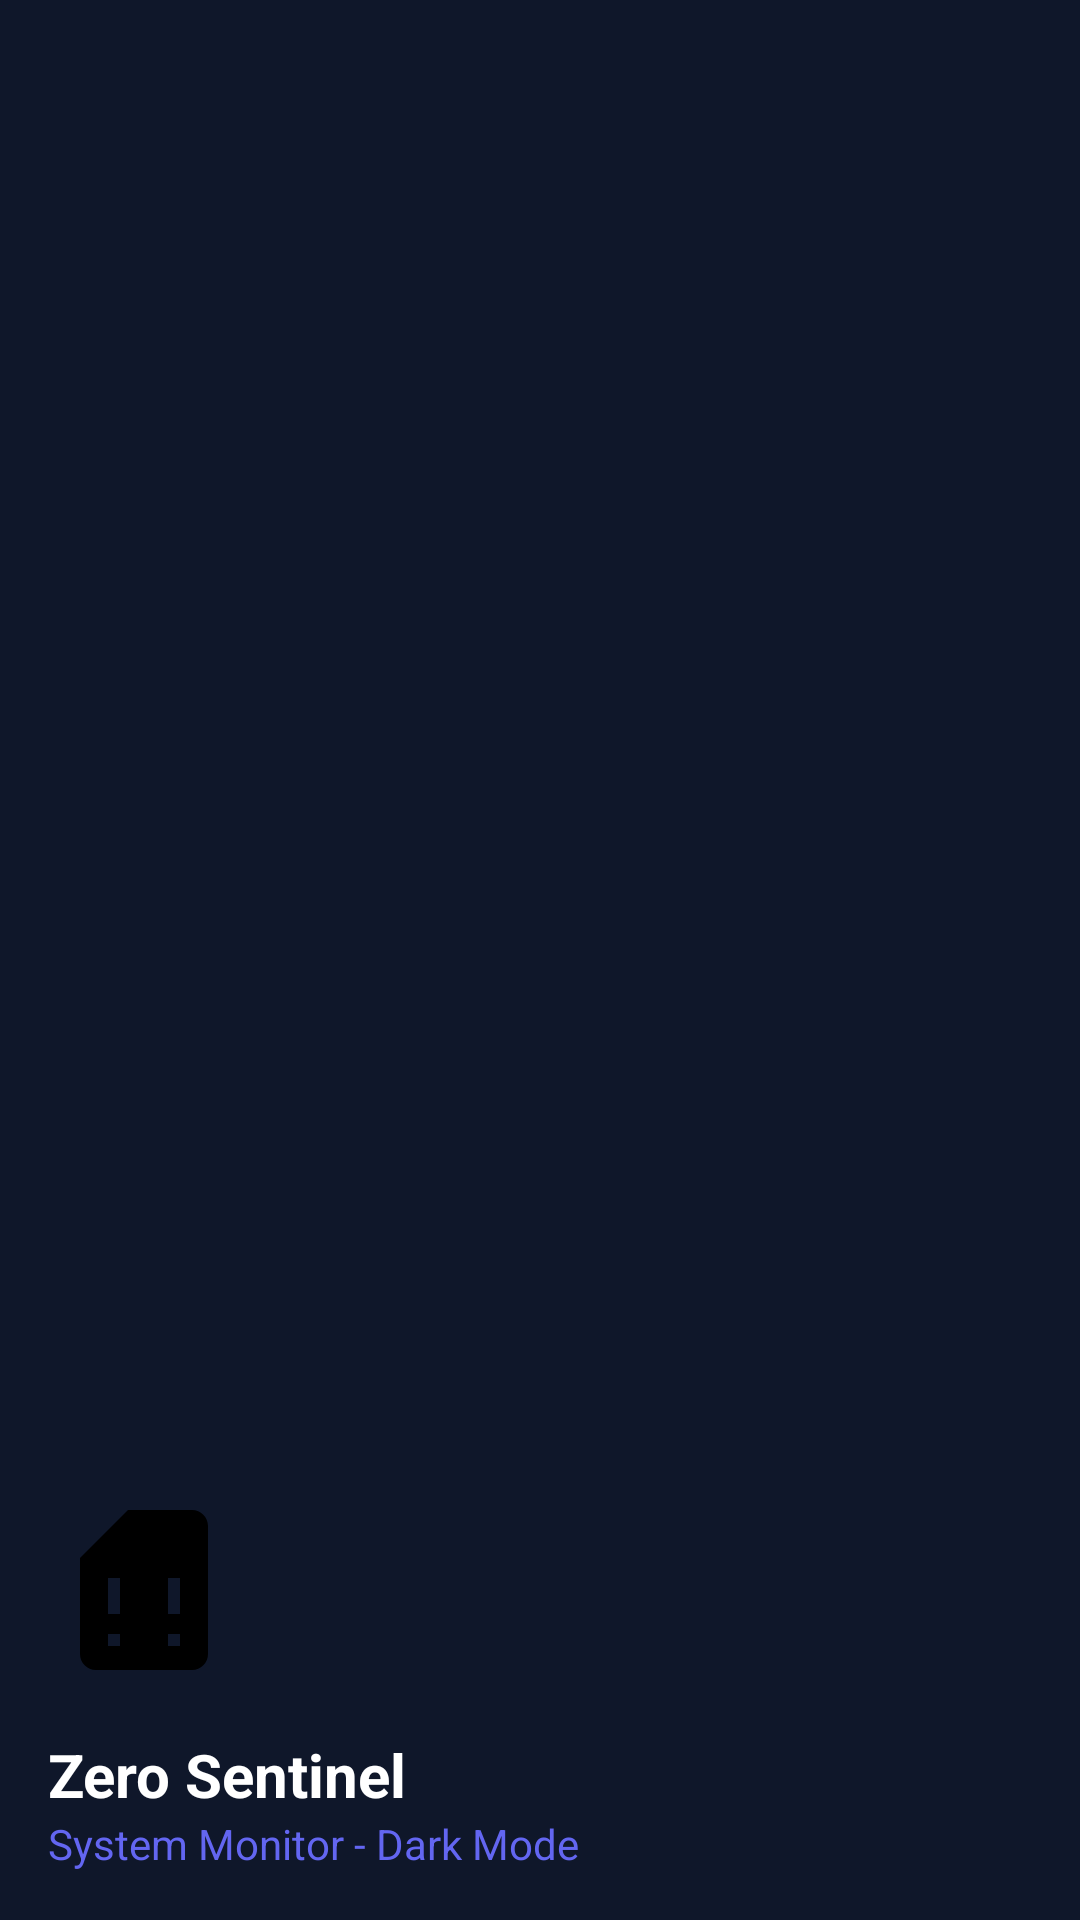

Point at icon controls on the screen. Image size 1080px x 1920px, points as [x,y].
sim menu: [144,1590]
